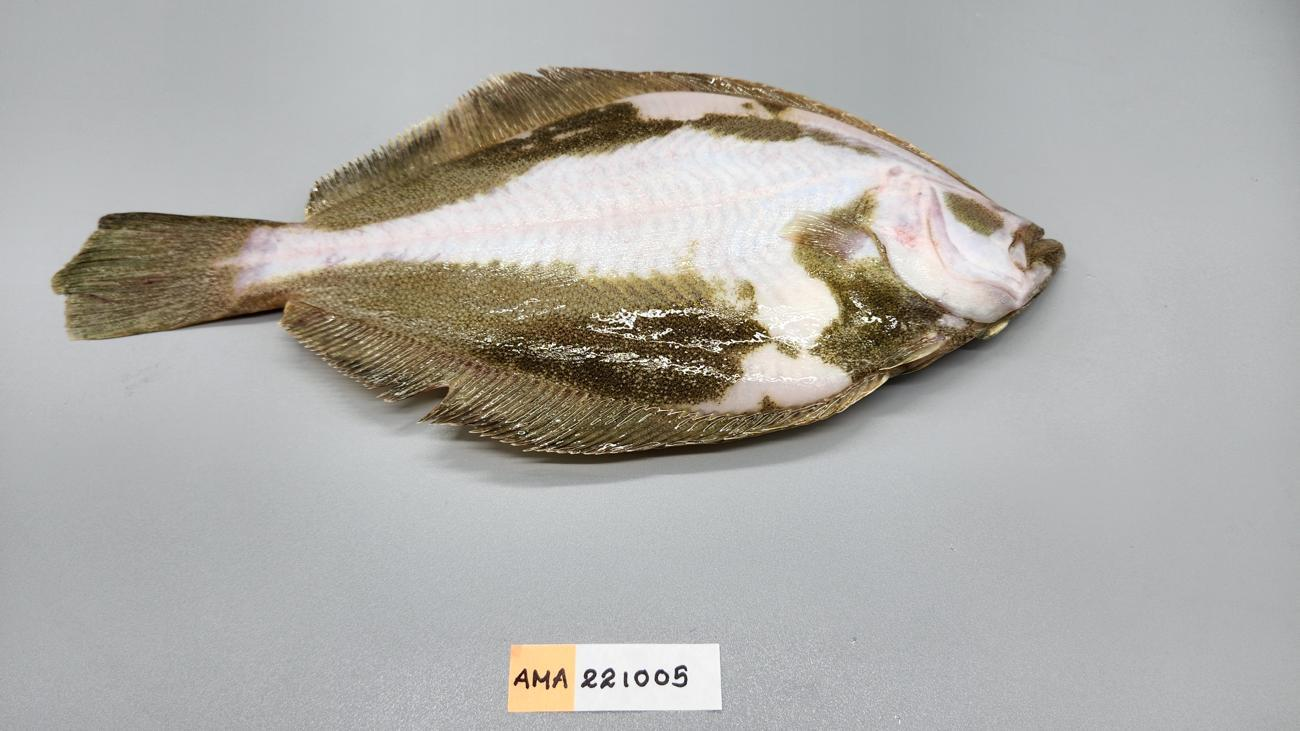MAFCH: (61, 214, 190, 312)
MAOUY: (50, 67, 1066, 458)
